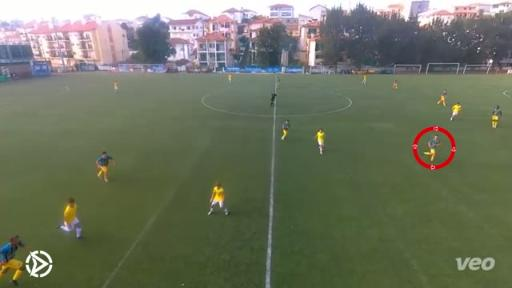highlight_overlay: (413, 126, 457, 170)
